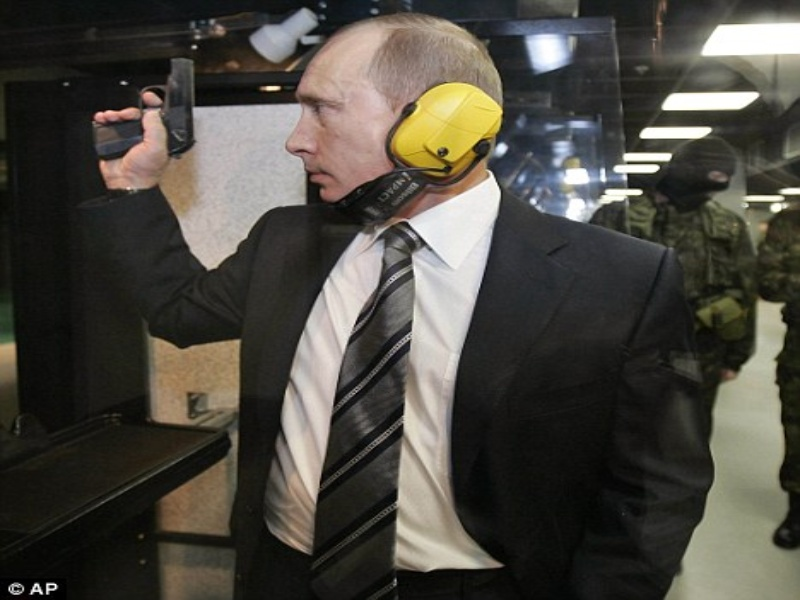gun: (82, 52, 203, 177)
